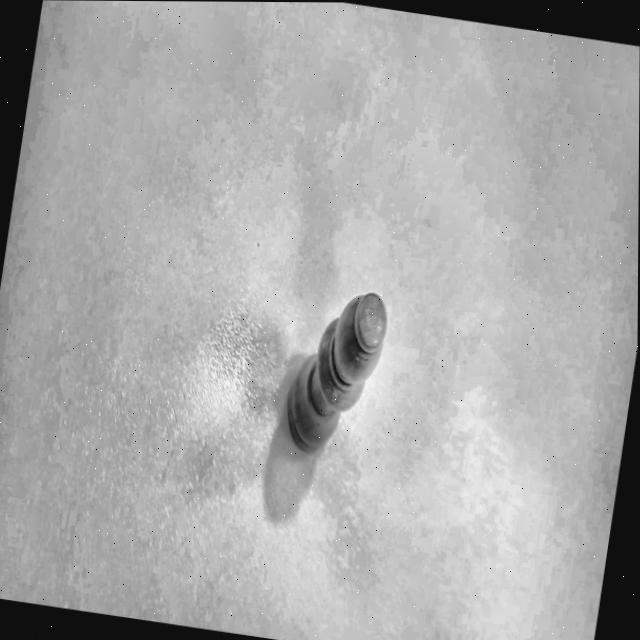white-bishop: (251, 253, 409, 508)
